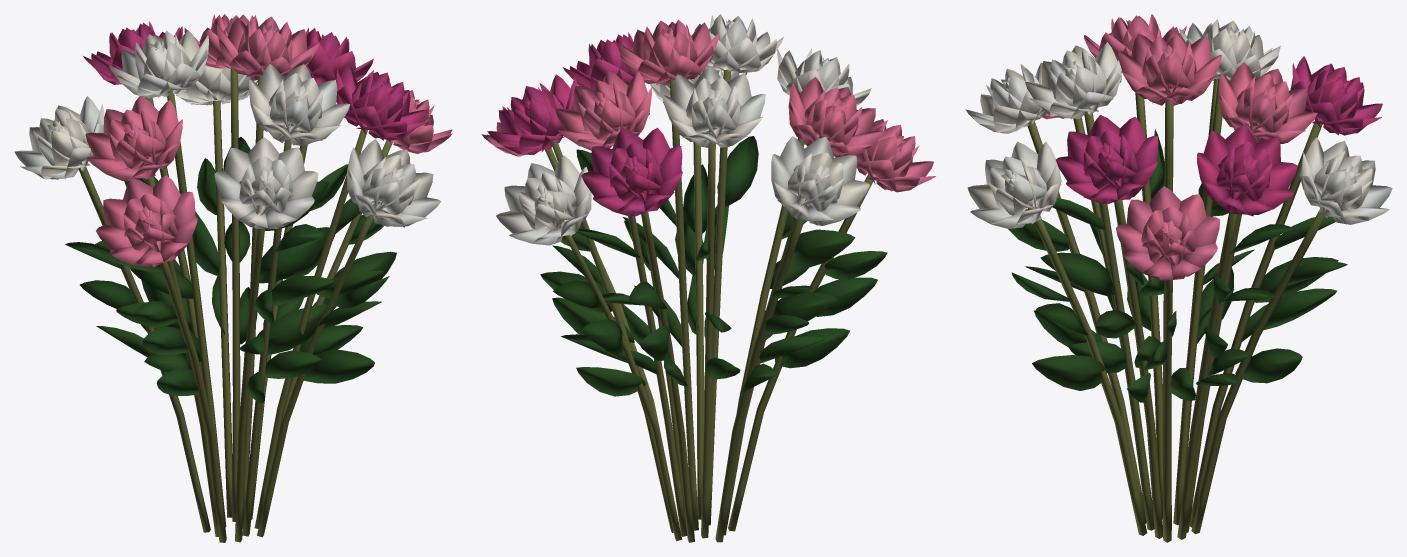
The model's file is bucket_peonies.glb.
3 renders of one model, left to right at view 1: azimuth 30°, elevation 25°; view 2: azimuth 150°, elevation 25°; view 3: azimuth 270°, elevation 25°, orthographic.
Visible parts, largest first — view 1: Sammel Pflanze, Sammel Putz; view 2: Sammel Pflanze, Sammel Putz; view 3: Sammel Pflanze, Sammel Putz.
Part boxes in pixels (x1,y1,x2,y2): Sammel Pflanze: (14,14,452,403); Sammel Putz: (78,68,392,542); Sammel Pflanze: (481,14,935,396); Sammel Putz: (545,69,873,542); Sammel Pflanze: (965,14,1392,402); Sammel Putz: (1027,78,1324,542).
Size of the model in its own units: 0.4513 by 0.542 by 0.4176.
